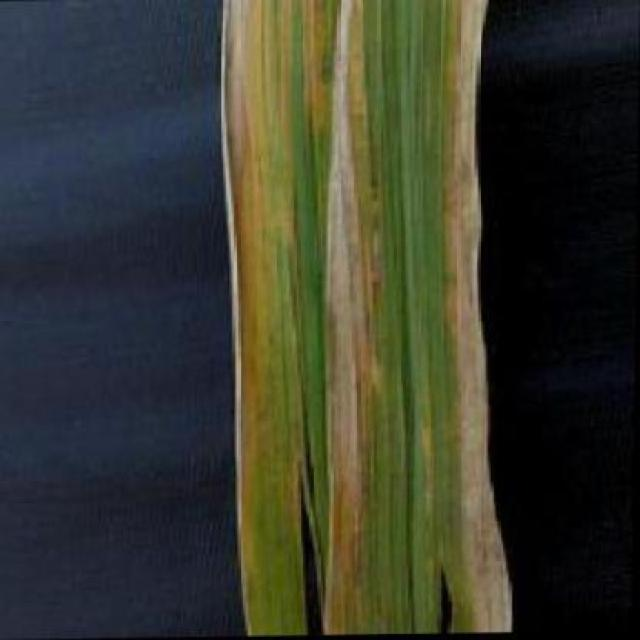Brown_Spot: (216, 0, 495, 623)
